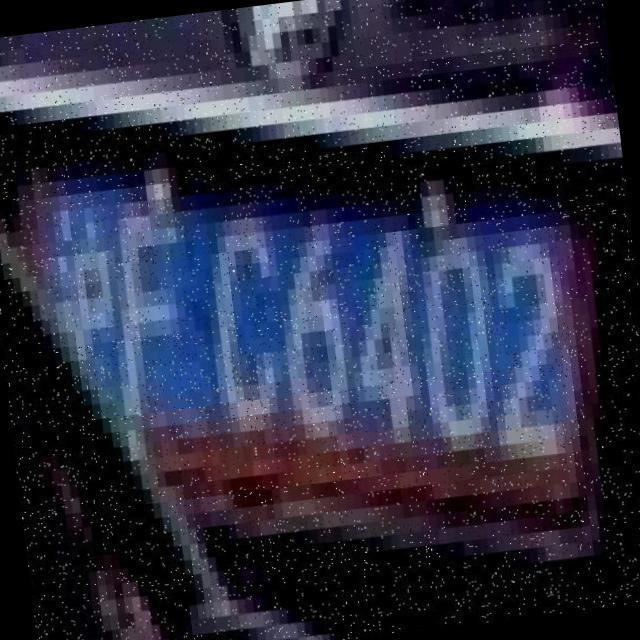License Plate: (25, 66, 611, 602)
